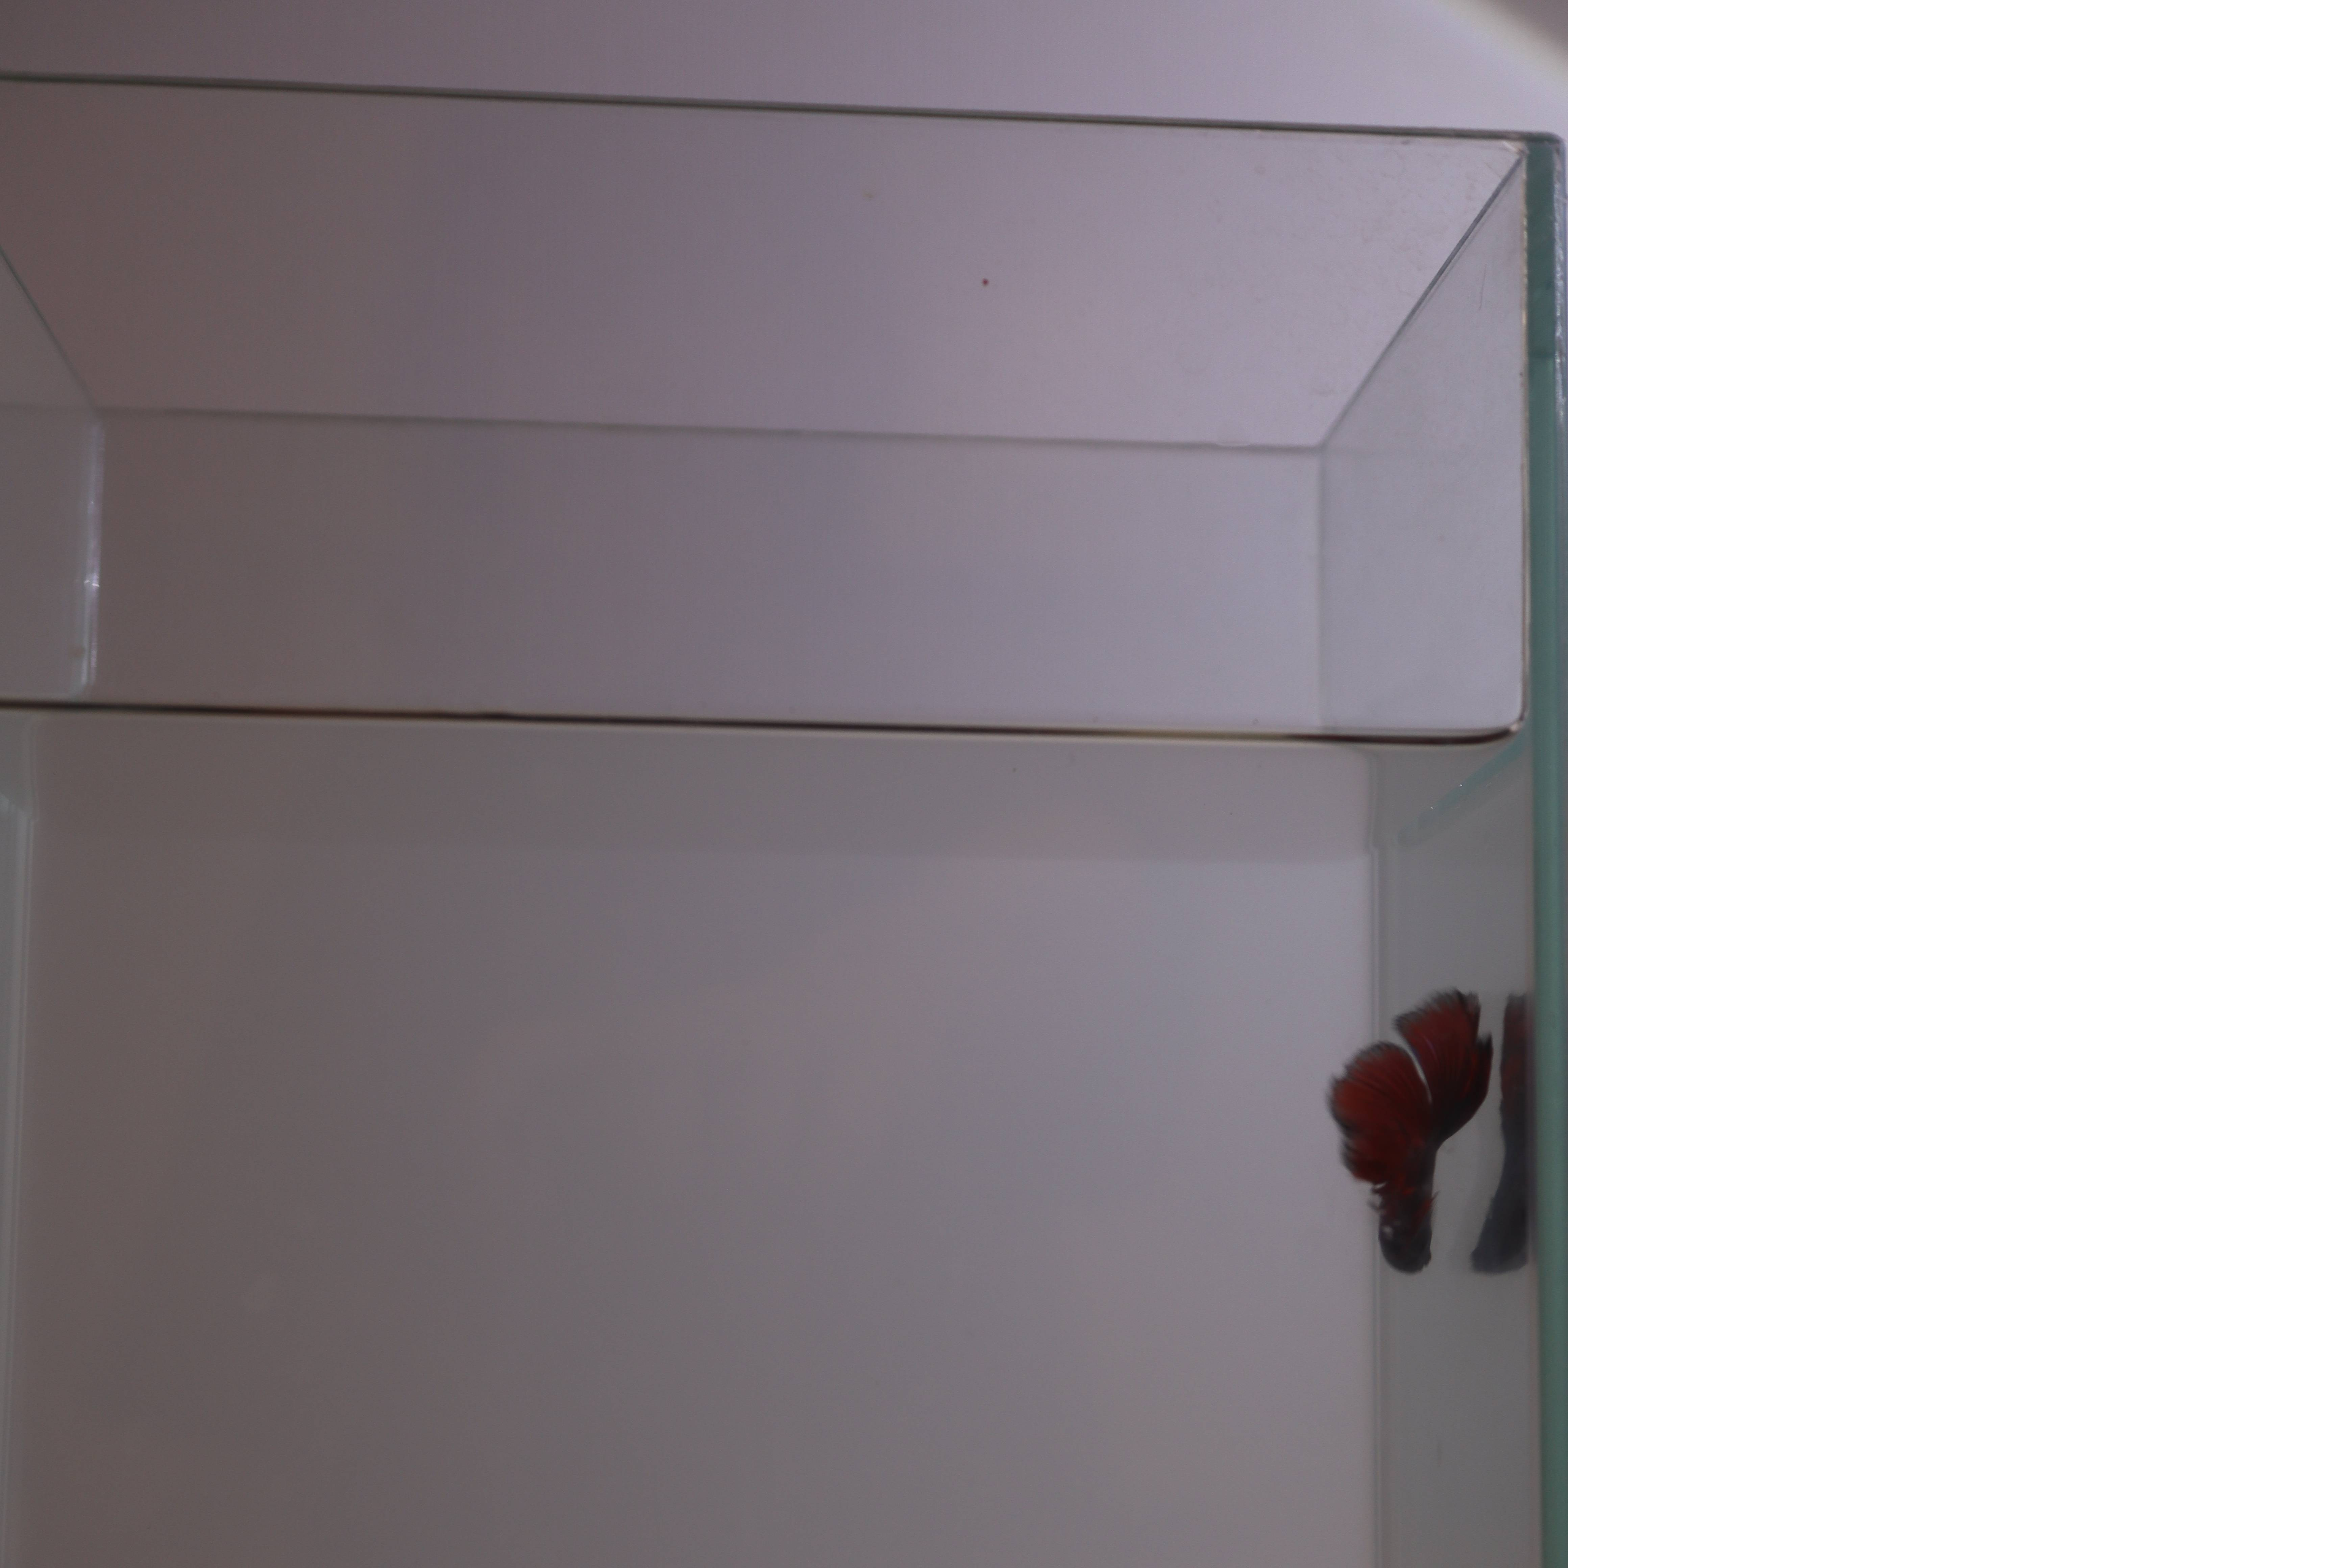fish: (1302, 978, 1498, 1278)
